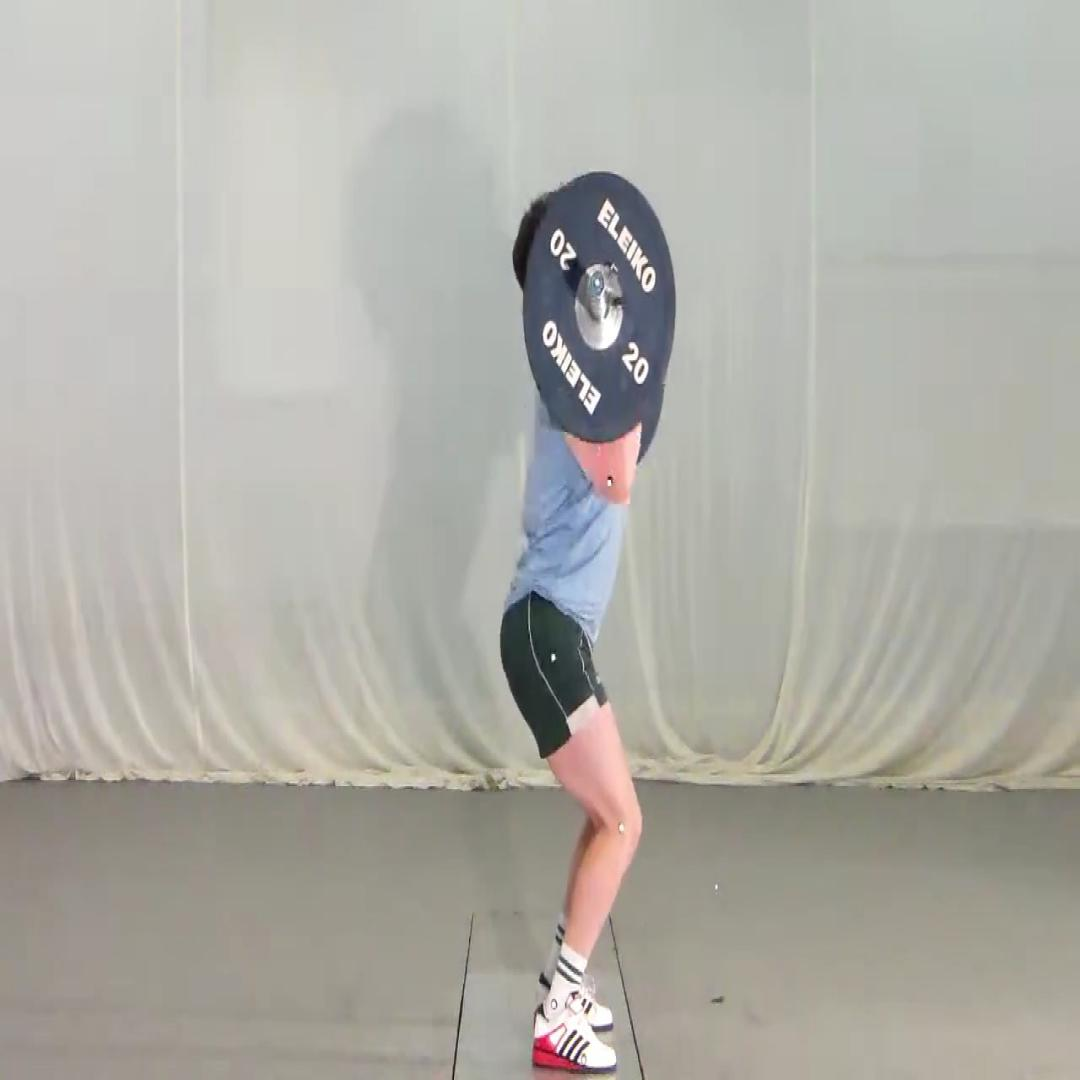Bar: (590, 268, 604, 298)
Barbell: (523, 172, 676, 442)
